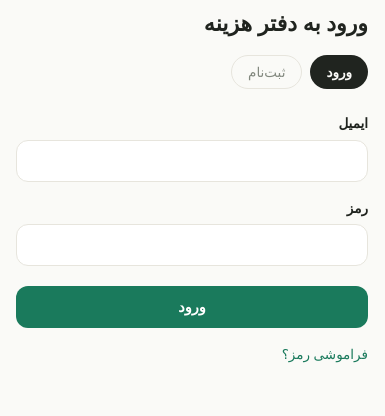
Test case: LoginForm (ticket 29) › shows the generic error when credentials are wrong
In the field labelled "ایمیل": (192, 160) top-left (16, 140), bottom-right (368, 182), type "a@example.com"
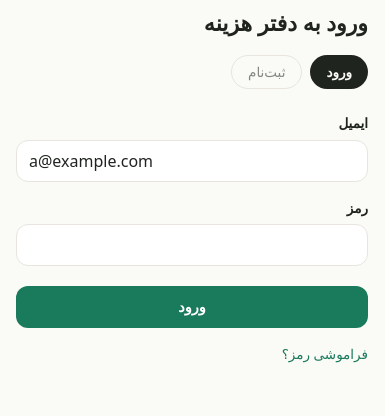
In the password field labelled "رمز": (192, 245) top-left (16, 224), bottom-right (368, 266), type "wrong-password"
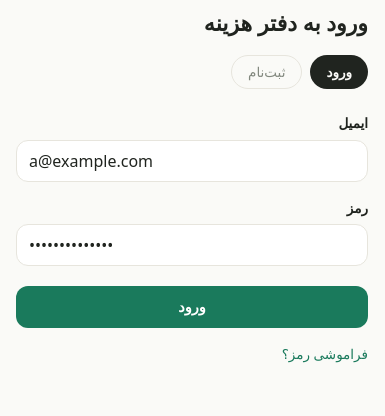
Click the submit button: (192, 307) top-left (16, 286), bottom-right (368, 328)
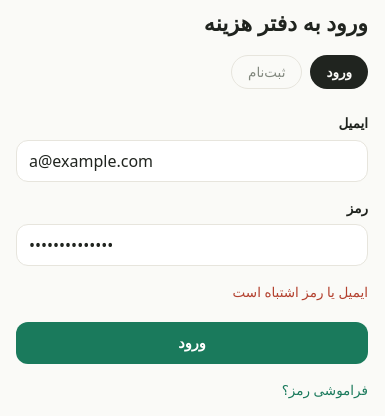
Now the text "ایمیل یا رمز اشتباه است" is shown, box top-left (233, 283), bottom-right (368, 301)
